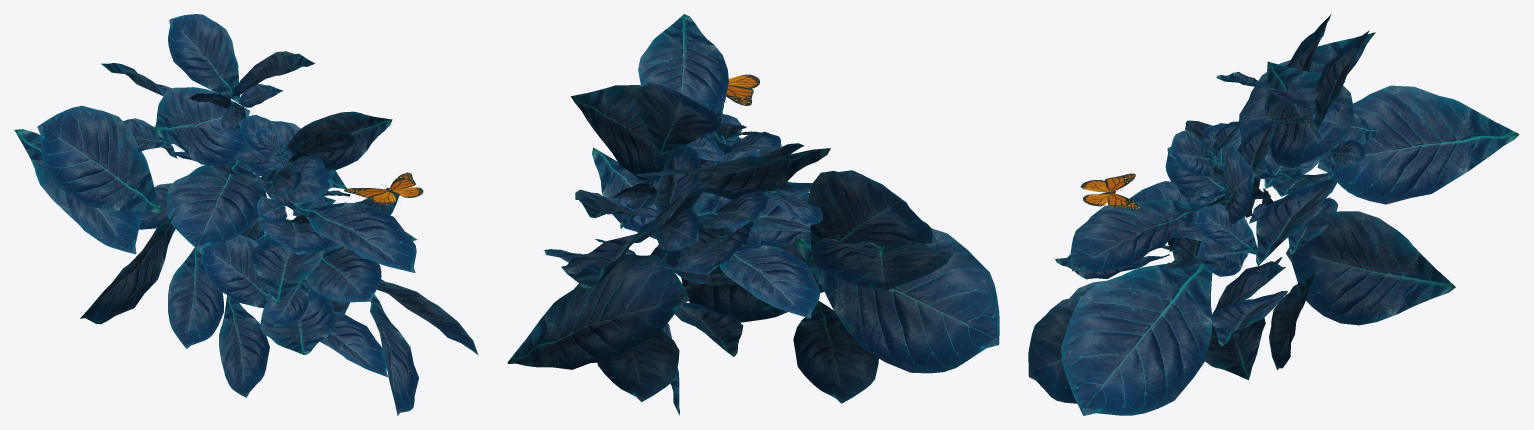
Rendered from butterfly-orange-instances.glb.
The picture shows the model from 3 angles, left to right: view 1: azimuth 30°, elevation 25°; view 2: azimuth 150°, elevation 25°; view 3: azimuth 270°, elevation 25°; orthographic projection. The views are drawn at different scales.
Visible parts, largest first — view 1: leaf.024, leaf.007, leaf, leaf.039, leaf.036, leaf.046, leaf.054, leaf.047, leaf.045, leaf.018, leaf.001, leaf.050 (+21 smaller); view 2: leaf.045, leaf.044, leaf.024, leaf.013, leaf.047, leaf.054, leaf.050, leaf.008, leaf.039, leaf.036, leaf.048, leaf.055 (+15 smaller); view 3: leaf.031, leaf.055, leaf.044, leaf, leaf.039, leaf.052, leaf.014, leaf.040, leaf.048, leaf.054, leaf.036, leaf.017 (+22 smaller).
Part boxes in pixels (left/top/right/bottom): leaf.024: left=37, top=105, right=161, bottom=212; leaf.007: left=167, top=160, right=263, bottom=250; leaf: left=294, top=201, right=416, bottom=272; leaf.039: left=155, top=87, right=250, bottom=165; leaf.036: left=168, top=14, right=239, bottom=102; leaf.046: left=168, top=247, right=223, bottom=348; leaf.054: left=14, top=129, right=140, bottom=254; leaf.047: left=219, top=295, right=269, bottom=397; leaf.045: left=80, top=213, right=175, bottom=324; leaf.018: left=200, top=234, right=268, bottom=308; leaf.001: left=307, top=246, right=381, bottom=302; leaf.050: left=286, top=111, right=392, bottom=170; leaf.045: left=795, top=228, right=999, bottom=373; leaf.044: left=507, top=254, right=689, bottom=369; leaf.024: left=807, top=170, right=932, bottom=262; leaf.013: left=638, top=14, right=728, bottom=113; leaf.047: left=793, top=300, right=878, bottom=403; leaf.054: left=812, top=238, right=955, bottom=292; leaf.050: left=571, top=85, right=671, bottom=180; leaf.008: left=719, top=244, right=820, bottom=318; leaf.039: left=635, top=148, right=830, bottom=199; leaf.036: left=634, top=82, right=720, bottom=155; leaf.048: left=597, top=330, right=679, bottom=401; leaf.055: left=561, top=184, right=706, bottom=289; leaf.031: left=1061, top=262, right=1212, bottom=415; leaf.055: left=1317, top=85, right=1519, bottom=204; leaf.044: left=1286, top=211, right=1455, bottom=325; leaf: left=1070, top=199, right=1205, bottom=271; leaf.039: left=1266, top=61, right=1353, bottom=167; leaf.052: left=1028, top=296, right=1081, bottom=403; leaf.014: left=1256, top=177, right=1337, bottom=265; leaf.040: left=1205, top=318, right=1265, bottom=379; leaf.048: left=1269, top=273, right=1315, bottom=369; leaf.054: left=1239, top=32, right=1375, bottom=143; leaf.036: left=1313, top=30, right=1369, bottom=133; leaf.017: left=1196, top=203, right=1257, bottom=254.
Bounding box in the file's own units: 18.87 × 16.09 × 22.2.
2 materials, 2 textured.
